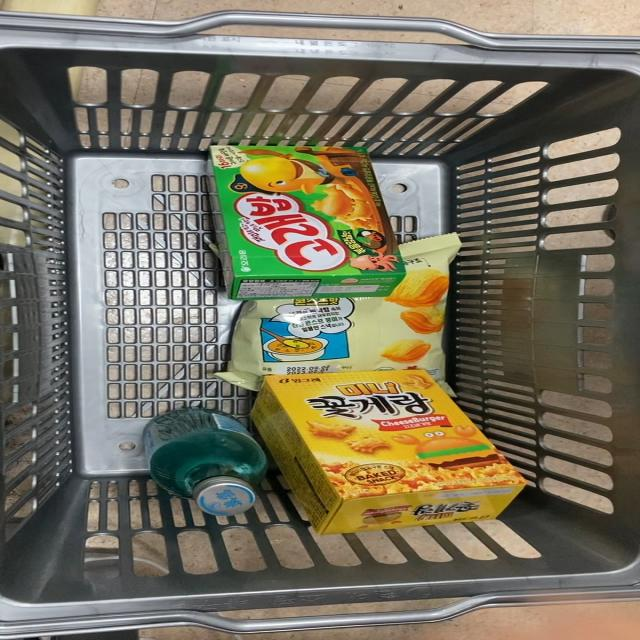ggobukchip: (220, 294, 469, 375)
goraebob: (194, 139, 394, 295)
jinro: (143, 402, 287, 520)
minicrab: (250, 369, 528, 535)
